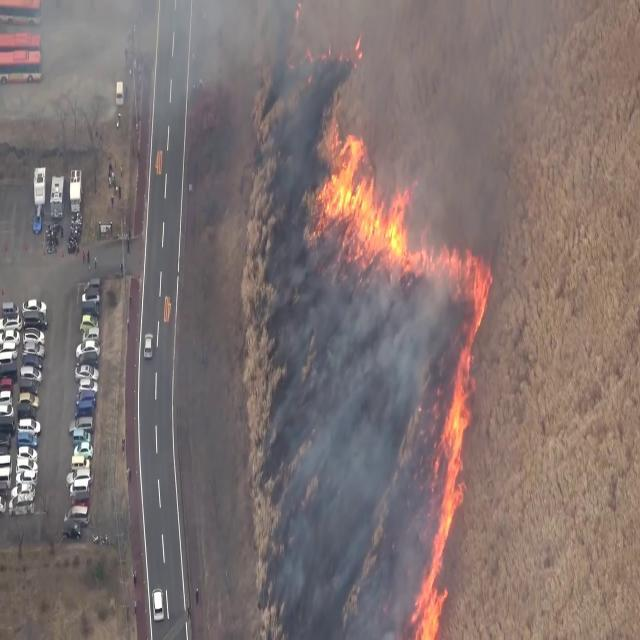Fire: (396, 223, 494, 639), (304, 91, 407, 258)
